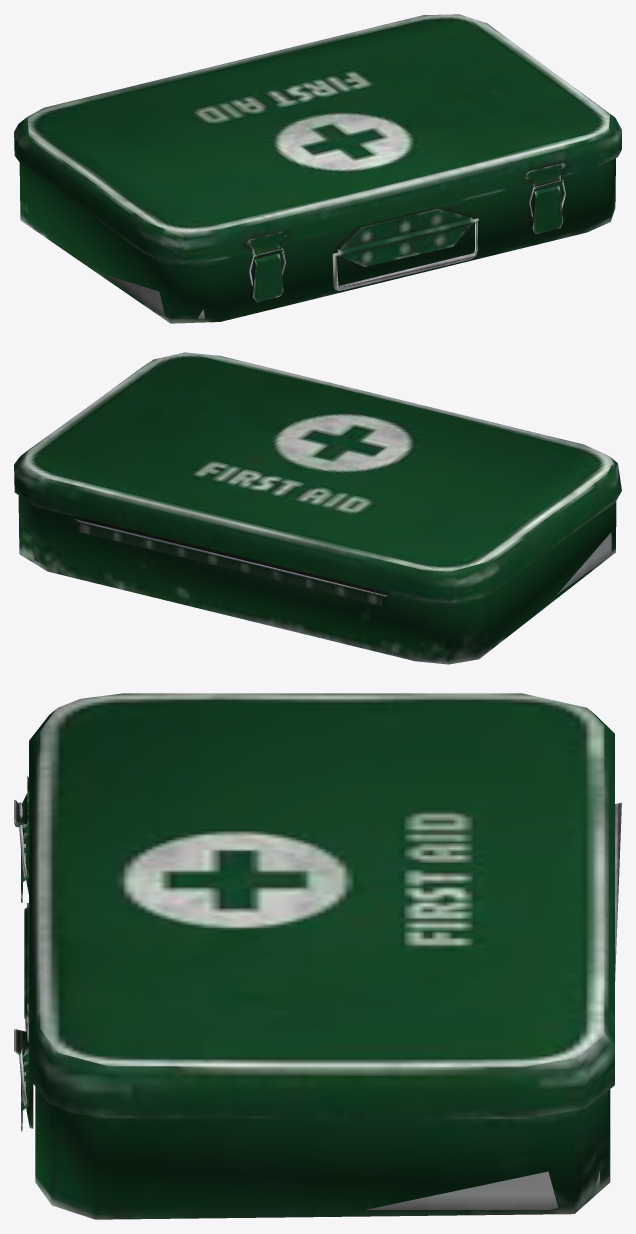
The model's file is medBox.glb.
The picture shows the model from 3 angles, top to bottom: view 1: azimuth 30°, elevation 25°; view 2: azimuth 150°, elevation 25°; view 3: azimuth 270°, elevation 25°; orthographic projection. The views are drawn at different scales.
Parts seen in each view (by area): view 1: medical_box_lid, medical_box, medical_box_latch, medical_box_handle; view 2: medical_box_lid, medical_box; view 3: medical_box_lid, medical_box.
Boxes of the visible parts, box(x1,y1,x2,y2) form: medical_box_lid: box(14, 14, 621, 263); medical_box: box(19, 158, 615, 323); medical_box_latch: box(252, 185, 563, 302); medical_box_handle: box(332, 218, 478, 290); medical_box_lid: box(14, 352, 621, 602); medical_box: box(18, 495, 616, 664); medical_box_lid: box(14, 693, 614, 1118); medical_box: box(24, 802, 621, 1219).
Bounding box in the file's own units: 0.5255 × 0.0968 × 0.3501.
Materials: 1 (1 with a texture image).
